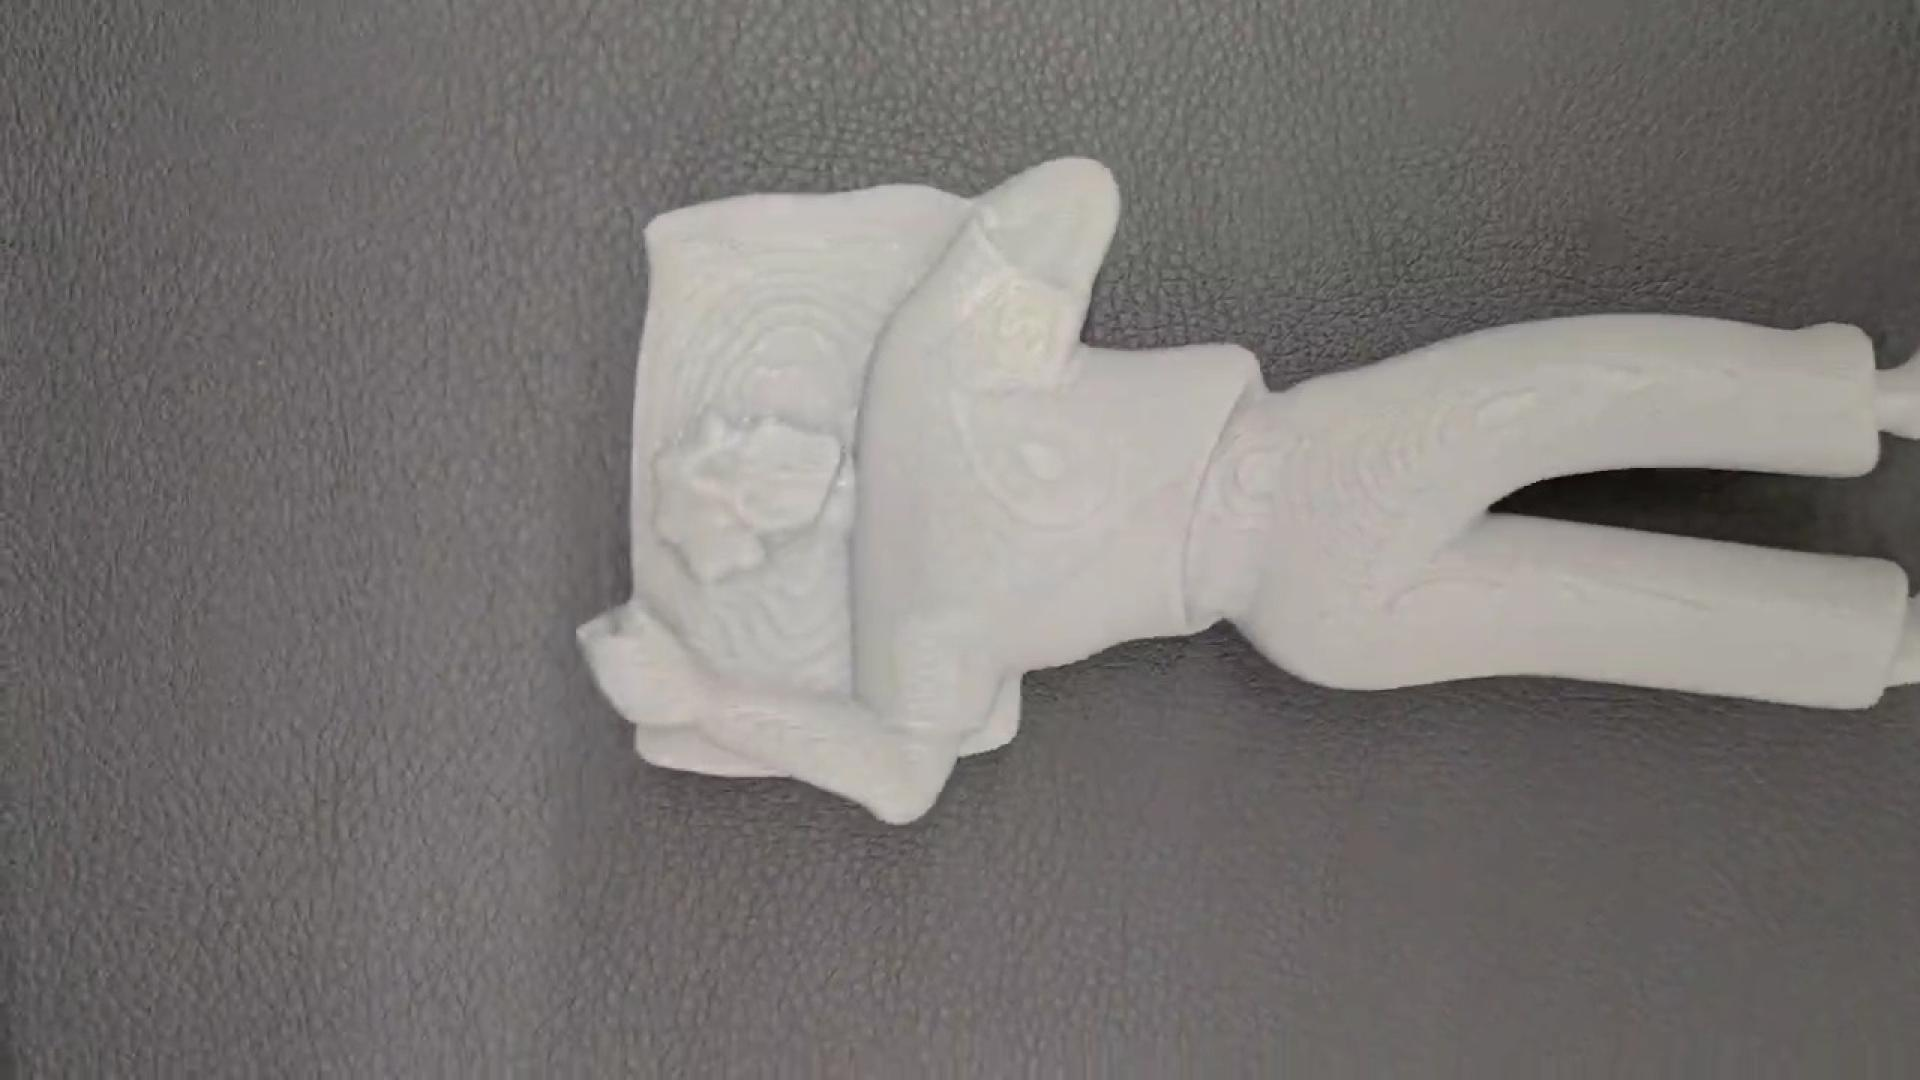Bad-style: (560, 144, 1920, 848)
